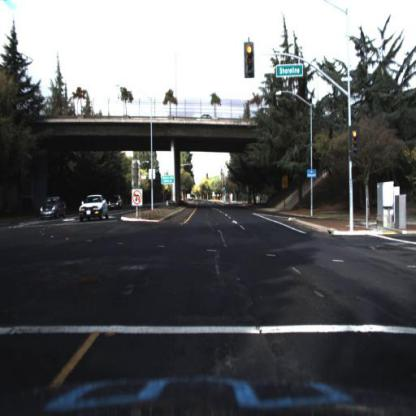car: (79, 191, 109, 225), (36, 191, 68, 222), (38, 193, 67, 224), (109, 195, 125, 216), (110, 190, 124, 213)
trafficLight: (349, 124, 362, 154)
trafficLight-Red: (244, 42, 254, 80)
